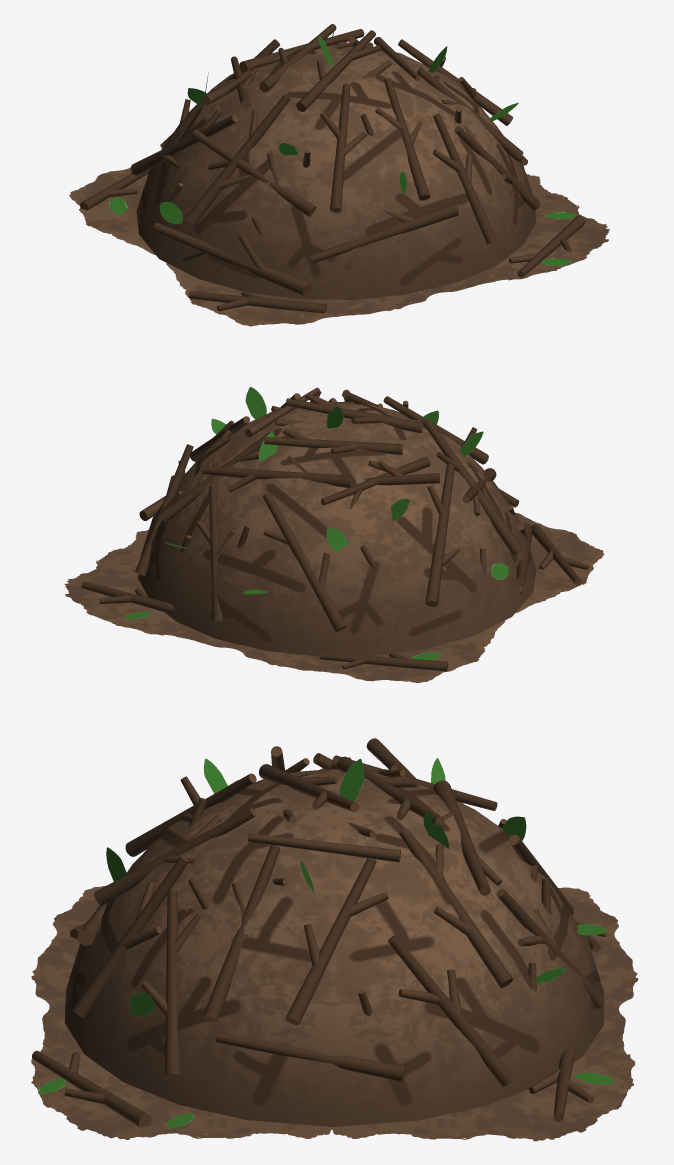
File: house.fbx
3 views of the same model, one above another, from view 1: azimuth 30°, elevation 25°; view 2: azimuth 150°, elevation 25°; view 3: azimuth 270°, elevation 25° (orthographic). The views are drawn at different scales.
Parts seen in each view (by area): view 1: Cylinder001; view 2: Cylinder001; view 3: Cylinder001.
Boxes of the visible parts, bbox=[...] form: Cylinder001: bbox=[69, 24, 609, 326]; Cylinder001: bbox=[64, 387, 604, 682]; Cylinder001: bbox=[31, 738, 638, 1141].
Bounding box in the file's own units: 125 × 52.28 × 122.
Materials: 1 (1 with a texture image).
